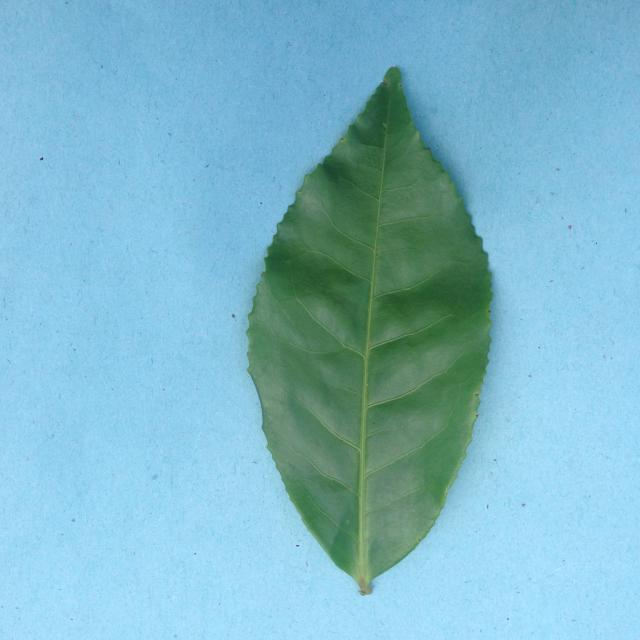Healthy: (219, 48, 527, 604)
